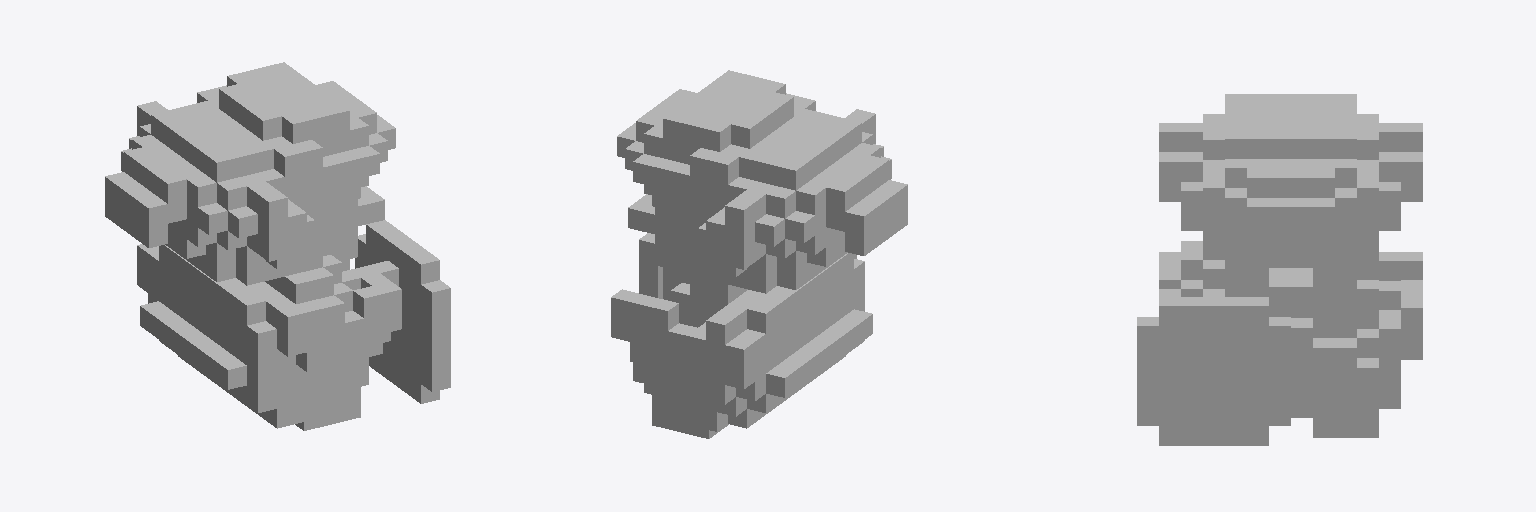
The model's file is prueba_01.obj.
3 renders of one model, left to right at view 1: azimuth 30°, elevation 25°; view 2: azimuth 150°, elevation 25°; view 3: azimuth 270°, elevation 25°, orthographic.
Parts seen in each view (by area): view 1: cube; view 2: cube; view 3: cube.
Part boxes in pixels (bbox=[...]): cube: bbox=[105, 62, 450, 430]; cube: bbox=[611, 70, 907, 438]; cube: bbox=[1137, 94, 1422, 445].
Bounding box in the file's own units: 0.8125 × 0.9375 × 0.8125.